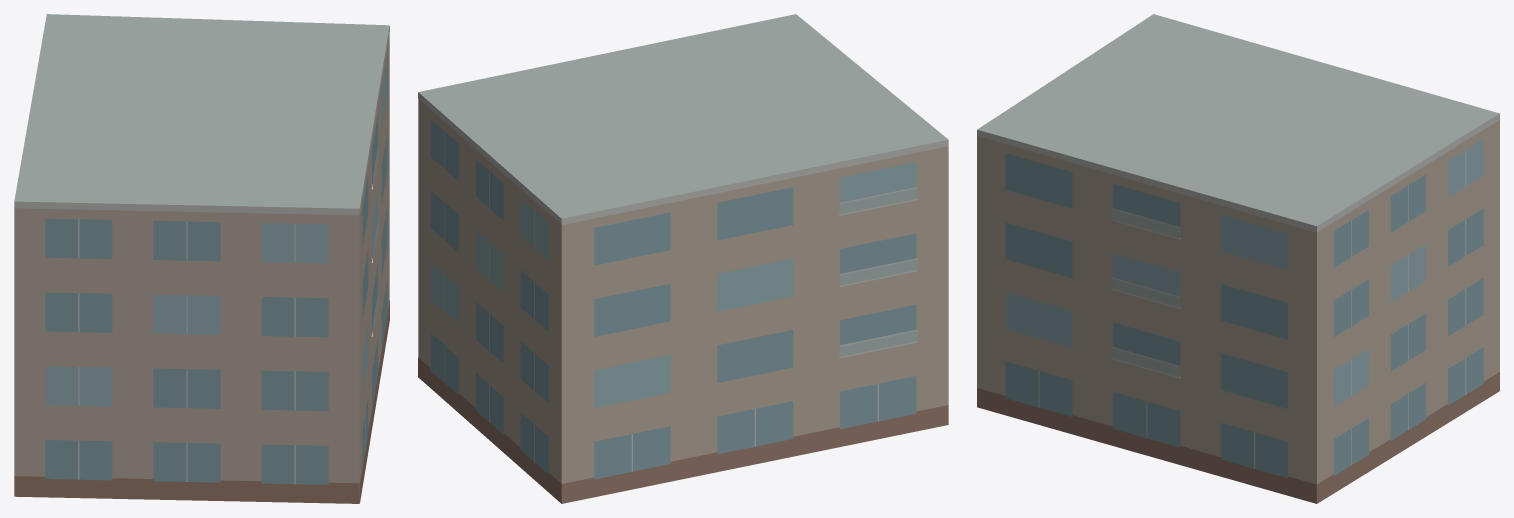
Rendered from survey-upis-32842980.glb.
The picture shows the model from 3 angles, left to right: view 1: azimuth 30°, elevation 25°; view 2: azimuth 150°, elevation 25°; view 3: azimuth 270°, elevation 25°; orthographic projection. The views are drawn at different scales.
Visible parts, largest first — view 1: survey-upis-32842980.tmp; view 2: survey-upis-32842980.tmp; view 3: survey-upis-32842980.tmp.
Boxes of the visible parts, left/top/right/bottom form: survey-upis-32842980.tmp: left=14, top=14, right=389, bottom=503; survey-upis-32842980.tmp: left=418, top=14, right=948, bottom=503; survey-upis-32842980.tmp: left=977, top=14, right=1499, bottom=503.
Bounding box in the file's own units: 17.71 × 10.8 × 18.44.
